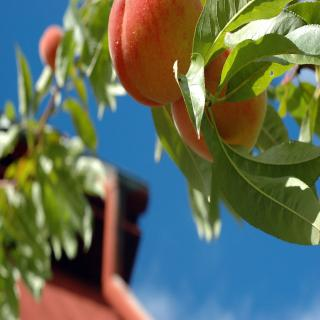Apple: (103, 0, 192, 96)
Peach: (172, 46, 267, 164), (108, 0, 204, 109), (37, 26, 62, 70)
